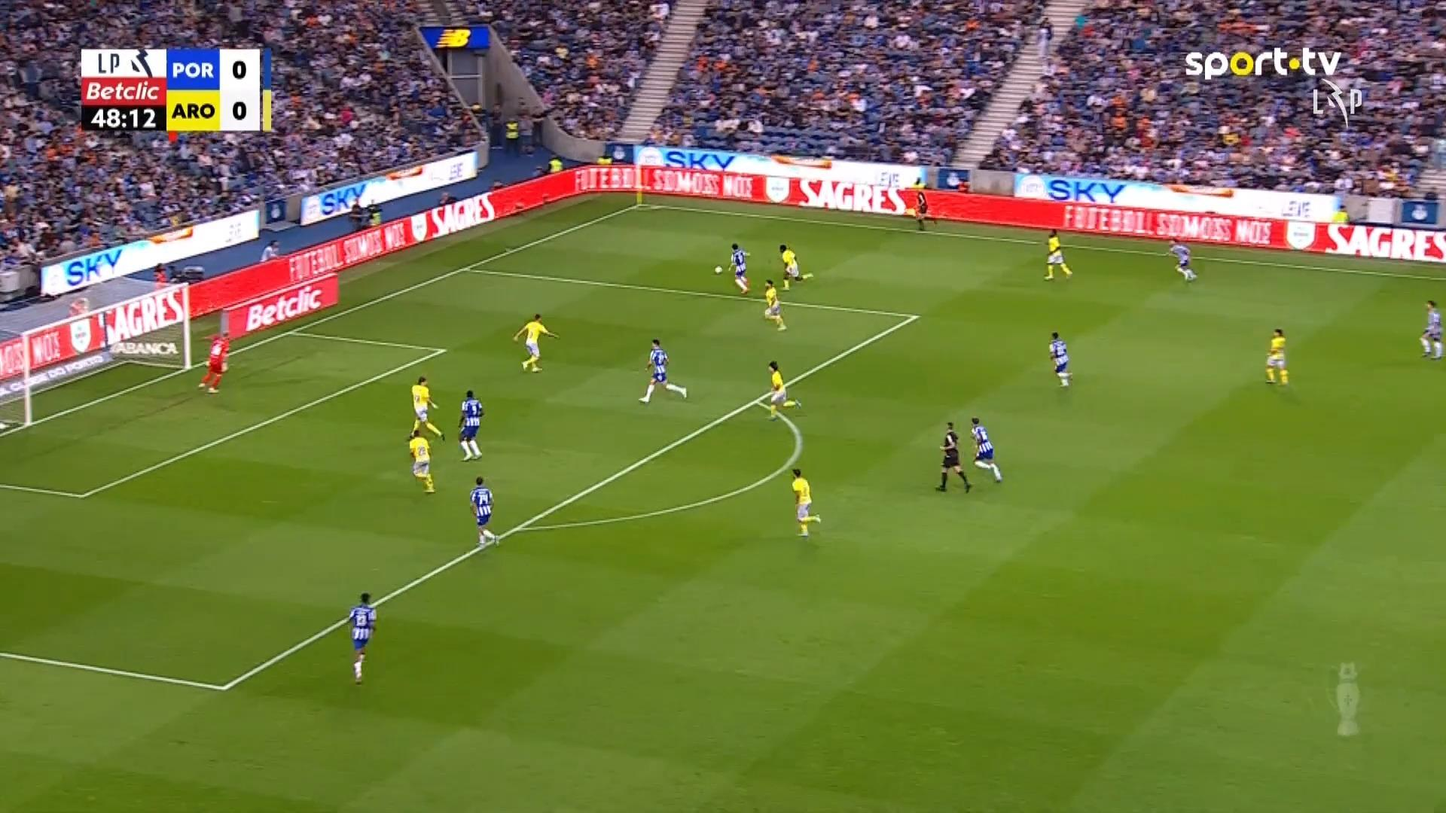ball: (714, 265, 724, 275)
goalkeeper: (198, 331, 230, 395)
player: (343, 591, 380, 686), (638, 337, 689, 404), (512, 315, 560, 374), (469, 475, 504, 548), (410, 377, 446, 441), (970, 417, 1004, 484), (456, 389, 486, 464), (766, 360, 801, 422), (407, 428, 437, 494), (779, 244, 815, 291), (1044, 228, 1074, 283), (1419, 300, 1446, 361), (1047, 331, 1074, 389), (1263, 328, 1289, 387), (1166, 239, 1198, 283), (763, 280, 788, 332), (728, 244, 752, 295)
referee: (935, 423, 973, 493), (913, 188, 927, 232)
